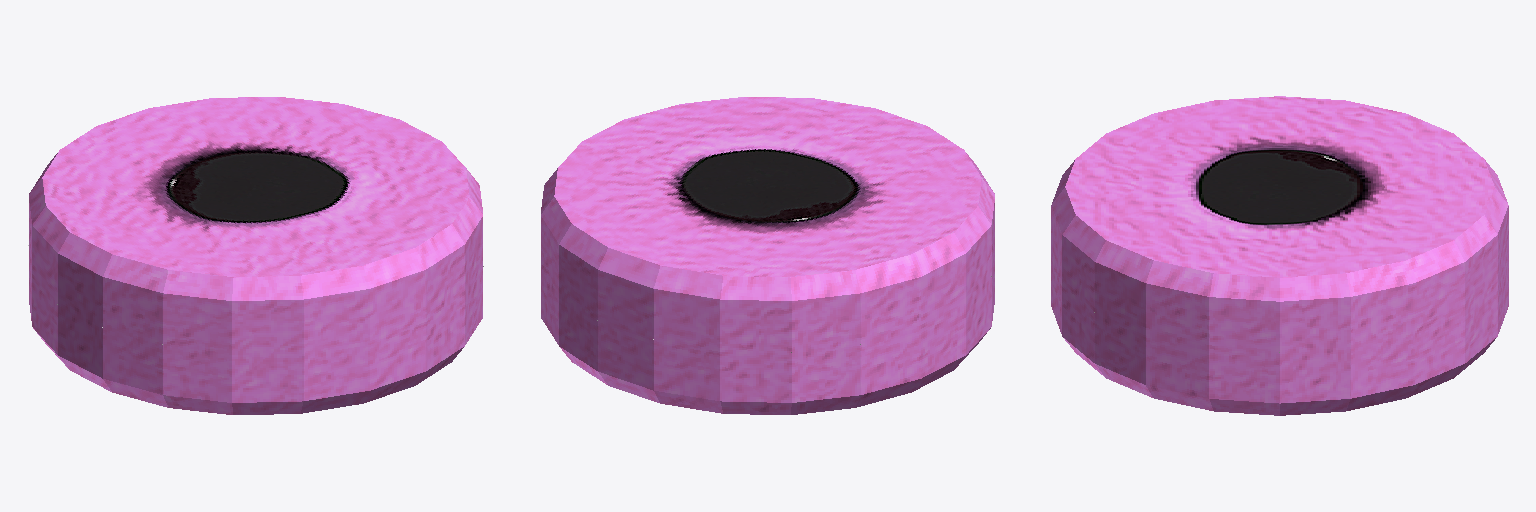
3 renders of one model, left to right at view 1: azimuth 30°, elevation 25°; view 2: azimuth 150°, elevation 25°; view 3: azimuth 270°, elevation 25°, orthographic.
Visible parts, largest first — view 1: Object0012; view 2: Object0012; view 3: Object0012.
Boxes of the visible parts, x1=… form: Object0012: x1=29, y1=97, x2=482, y2=414; Object0012: x1=541, y1=97, x2=994, y2=414; Object0012: x1=1051, y1=96, x2=1508, y2=415.
Size of the model in its own units: 6.01 by 2 by 6.01.
1 materials, 1 textured.